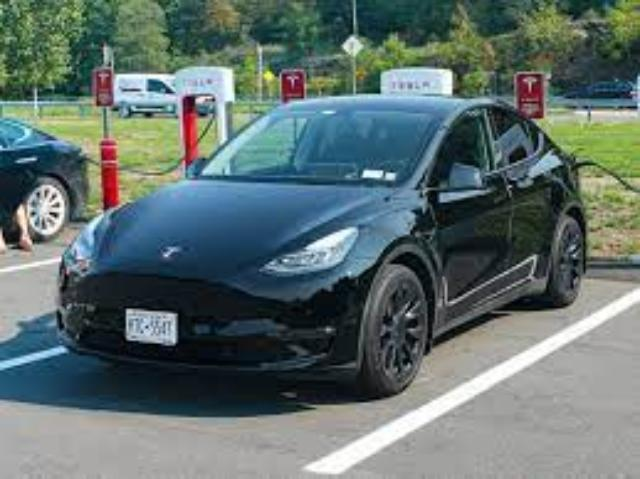tesla: (55, 93, 587, 395)
